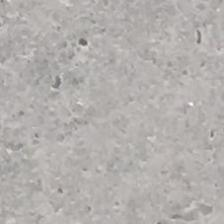Non_Crack: (31, 24, 197, 209)
